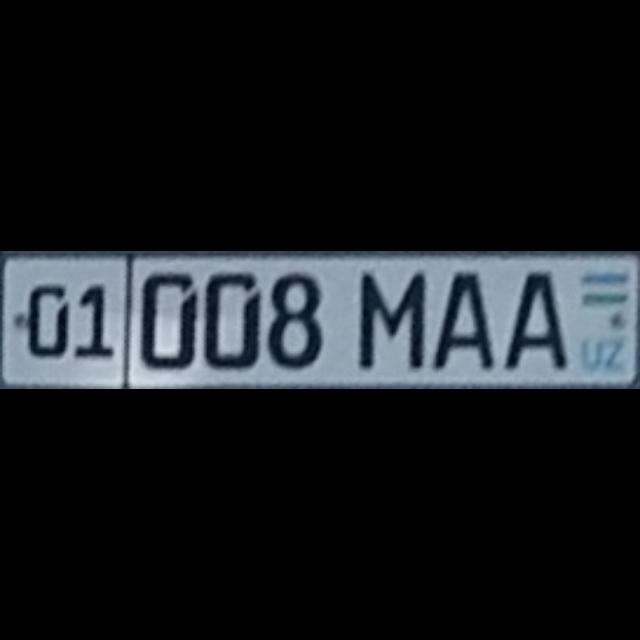0: (136, 270, 194, 368), (202, 270, 258, 368), (26, 282, 68, 356)
1: (73, 282, 113, 356)
8: (263, 270, 319, 366)
A: (432, 270, 492, 368), (503, 270, 562, 366)
M: (358, 270, 422, 368)
